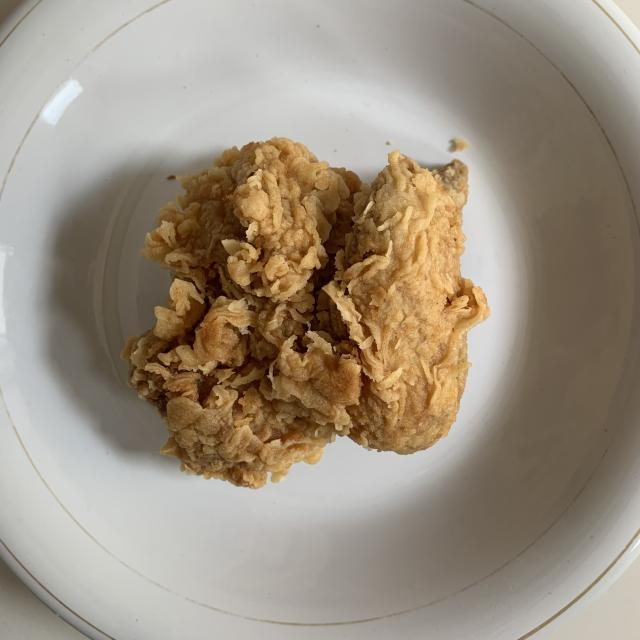Frango: (126, 138, 488, 487)
